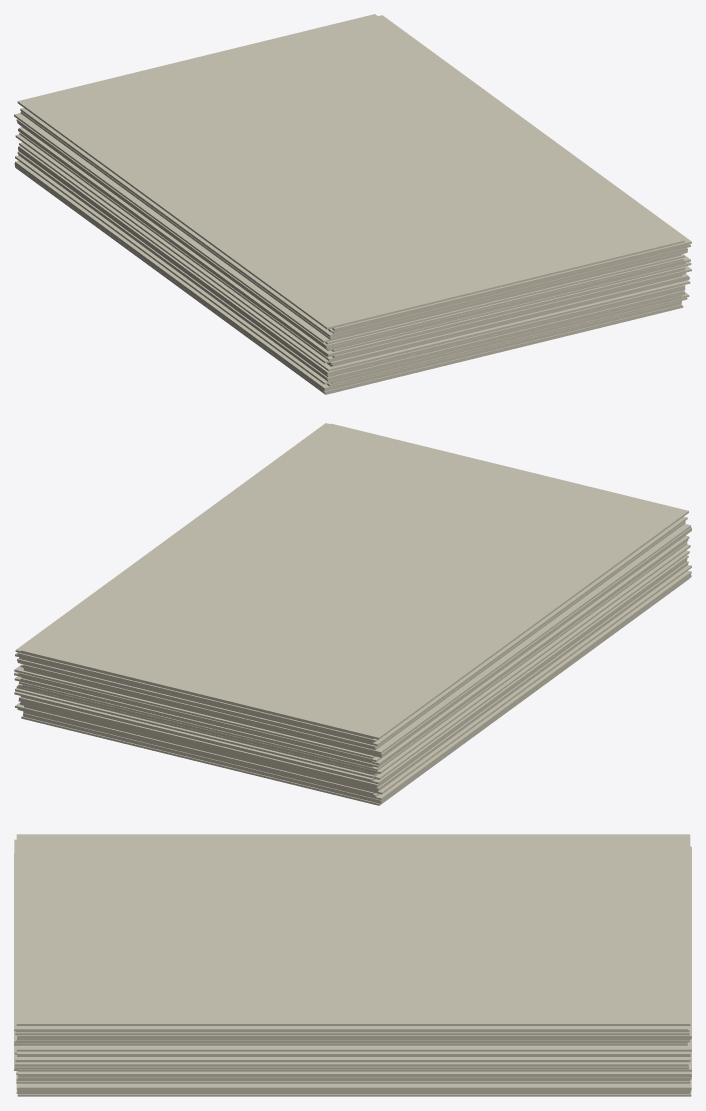
Rendered from Paper.fbx.
The picture shows the model from 3 angles, top to bottom: view 1: azimuth 30°, elevation 25°; view 2: azimuth 150°, elevation 25°; view 3: azimuth 270°, elevation 25°; orthographic projection. The views are drawn at different scales.
Parts seen in each view (by area): view 1: Paper; view 2: Paper; view 3: Paper.
Boxes of the visible parts, x1,y1,x2,y2 form: Paper: (14, 14, 691, 394); Paper: (14, 423, 691, 805); Paper: (14, 834, 691, 1096).
Bounding box in the file's own units: 20.54 × 3.6 × 30.19.
